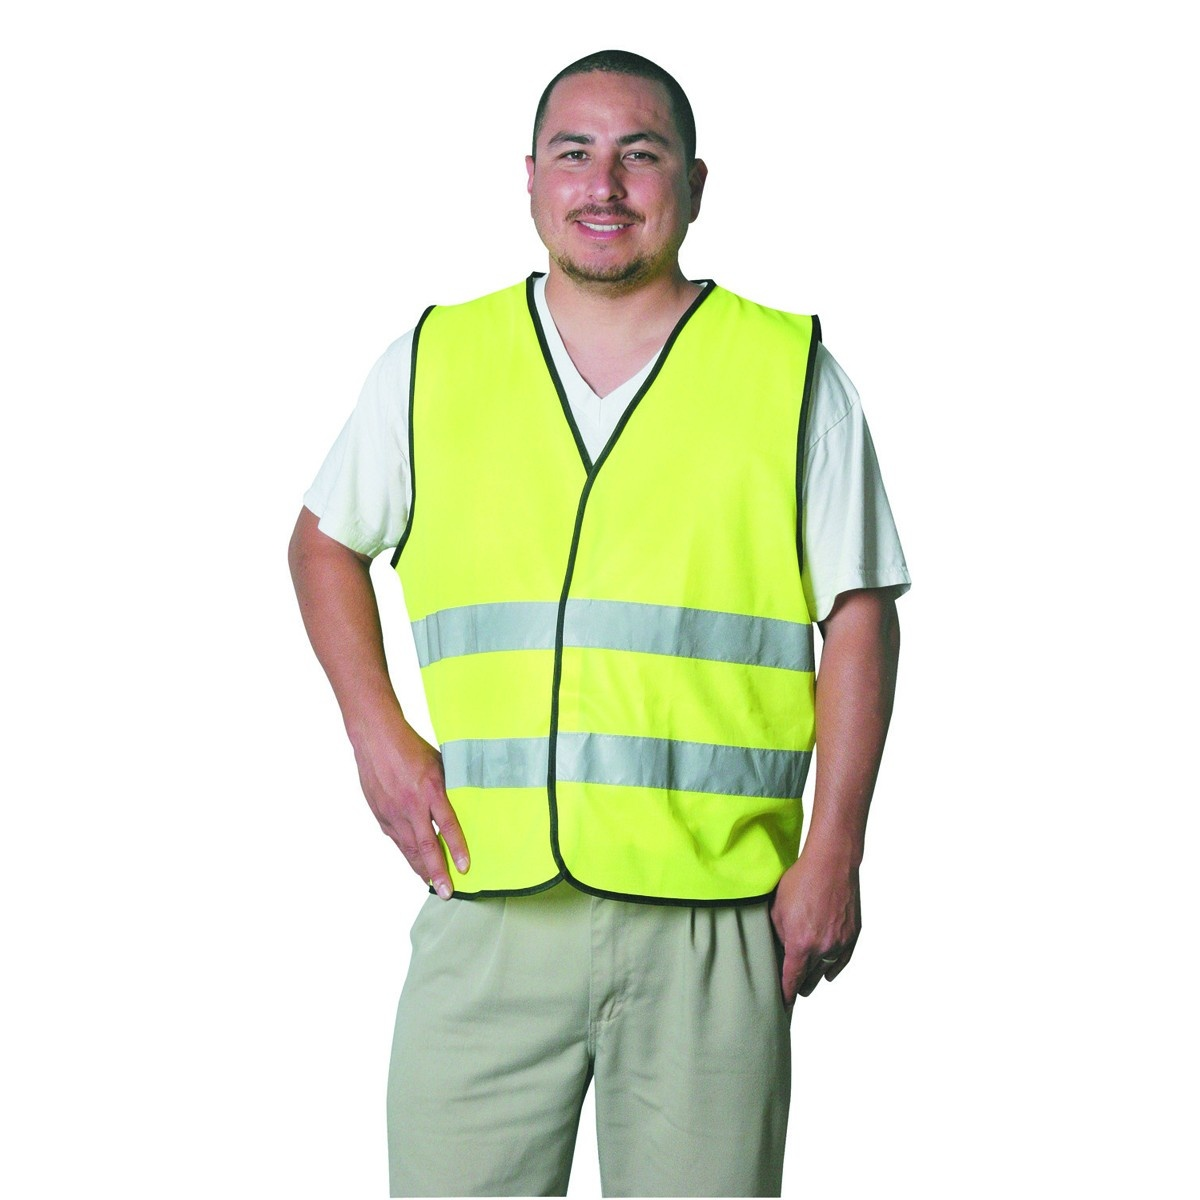person with partial safety: (323, 47, 843, 1193)
safety vest: (399, 289, 818, 921)
